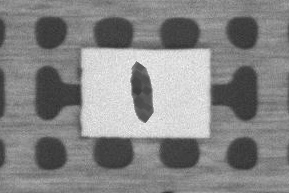DIE_INK: (192, 39, 234, 83)
